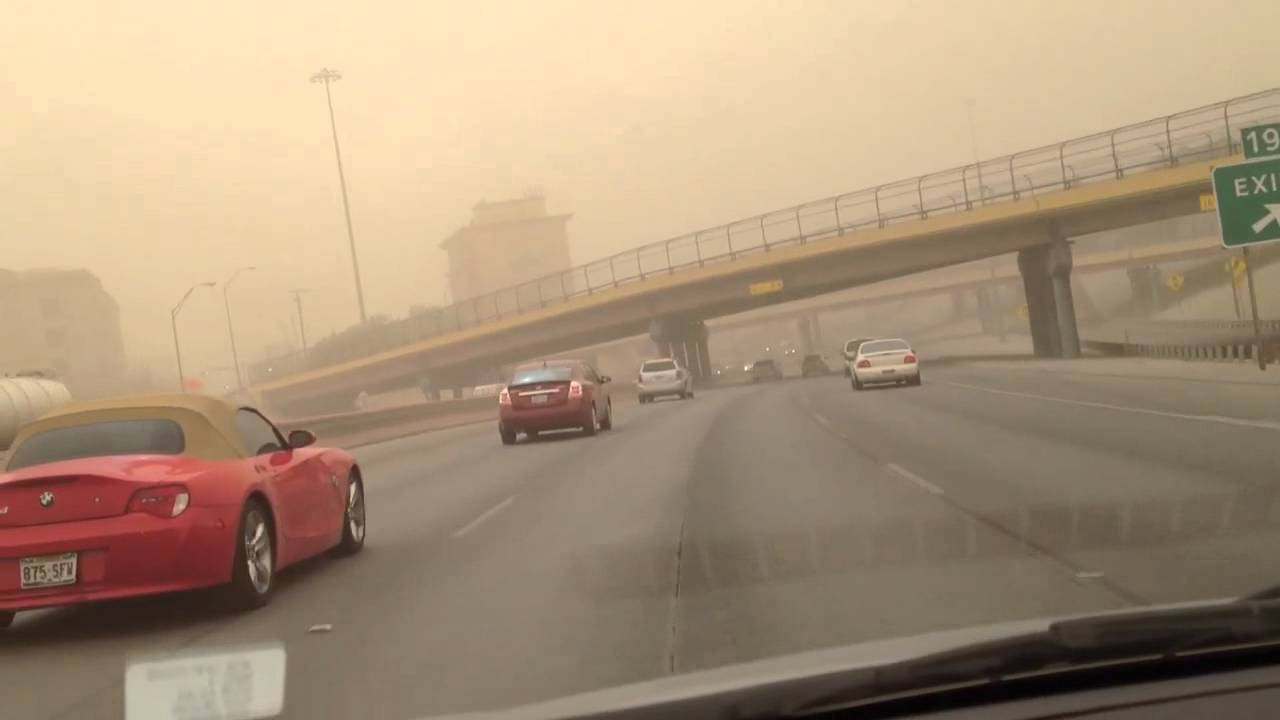car: (0, 388, 372, 639), (496, 363, 617, 444), (847, 338, 922, 389), (635, 356, 694, 404), (750, 360, 781, 382), (801, 354, 832, 376), (841, 342, 858, 373)
